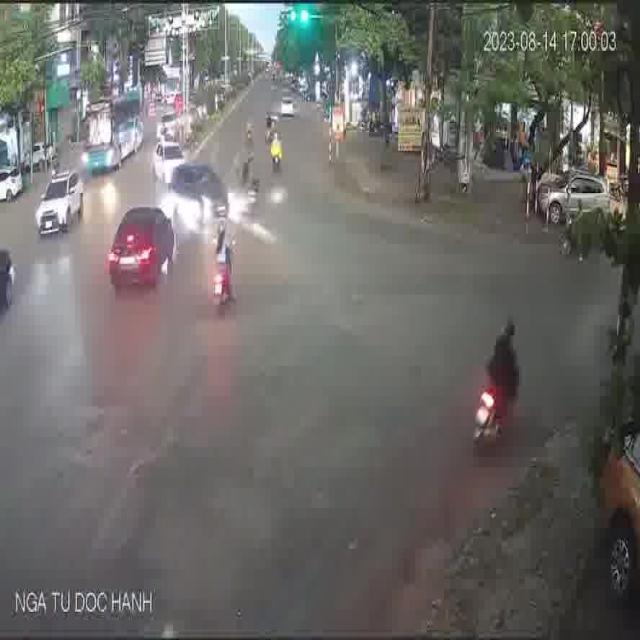normal: (447, 291, 554, 483), (99, 190, 194, 316), (187, 217, 247, 321)
